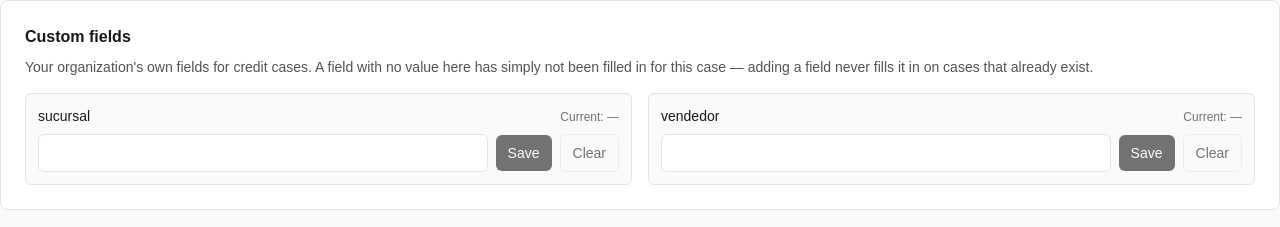
Test case: CustomFieldsPanel › saves a typed value against the right field and case
This screenshot has width=1280, height=227.
In the field labelled "vendedor": (886, 153) [661,134,1111,172], type "Ana Ruiz"
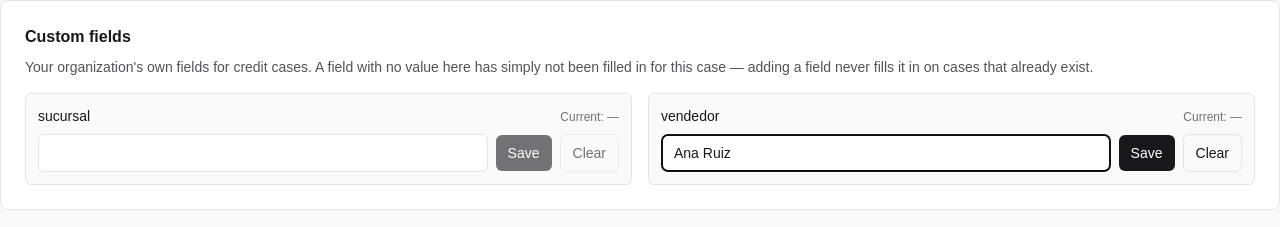
Click the 2nd button "Save": (1147, 153) [1119,135,1174,171]
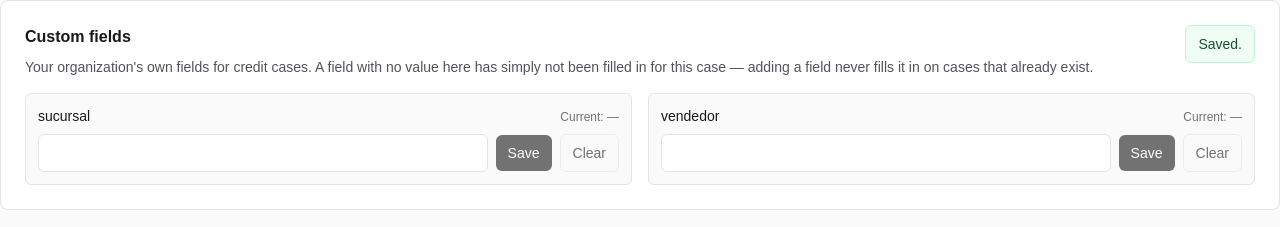
Now the text "Saved." is shown, box [1185,25,1255,63]
